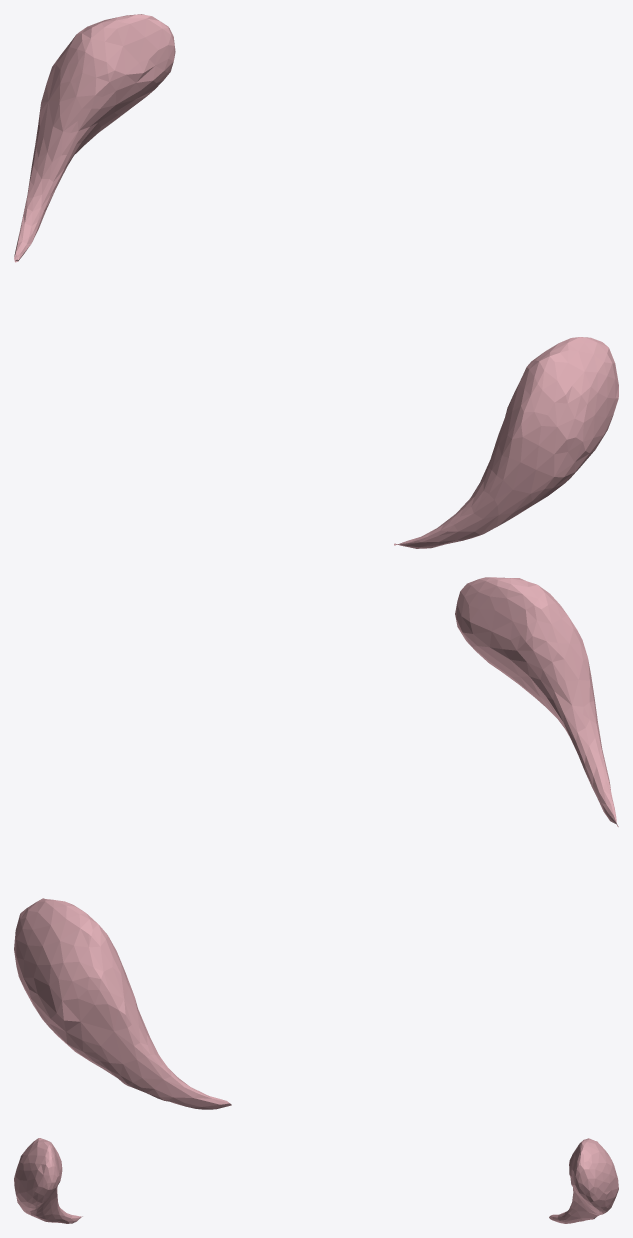
The picture shows the model from 3 angles, top to bottom: view 1: azimuth 30°, elevation 25°; view 2: azimuth 150°, elevation 25°; view 3: azimuth 270°, elevation 25°; orthographic projection. The views are drawn at different scales.
Parts seen in each view (by area): view 1: 178.obj; view 2: 178.obj; view 3: 178.obj.
Part boxes in pixels (bbox=[...]): 178.obj: bbox=[14, 14, 618, 548]; 178.obj: bbox=[14, 577, 618, 1109]; 178.obj: bbox=[14, 1138, 618, 1223].
Bounding box in the file's own units: 1295 × 1253 × 5842.
